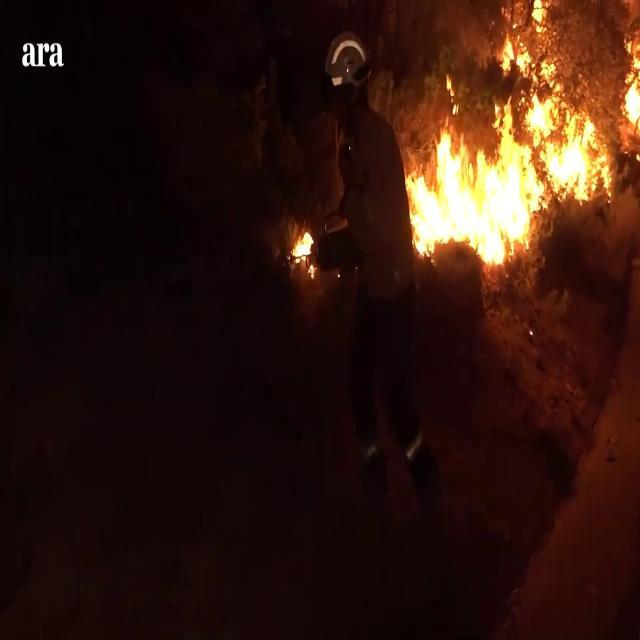Fire: (406, 2, 632, 266), (618, 22, 640, 134), (290, 221, 317, 276)
